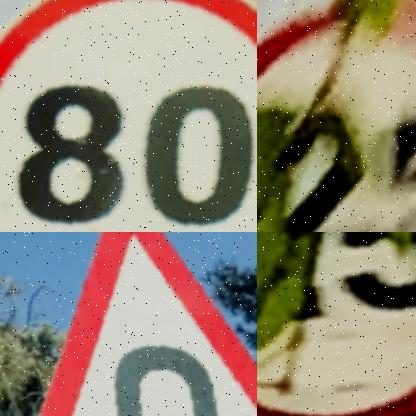Speed Limit -25 kmph-: (257, 0, 416, 232), (257, 232, 416, 416)
Speed Limit -80 kmph-: (0, 0, 257, 232)
U-Turn: (38, 232, 257, 416)
